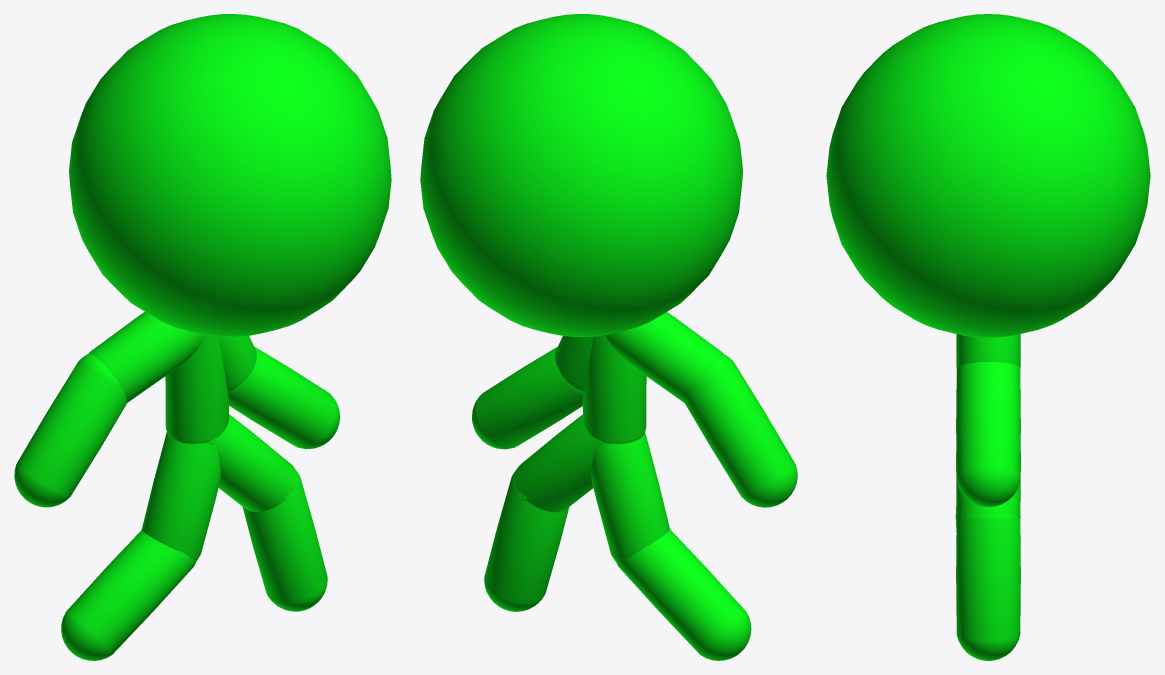
File: StickMan_Walk.obj
The picture shows the model from 3 angles, left to right: view 1: azimuth 30°, elevation 25°; view 2: azimuth 150°, elevation 25°; view 3: azimuth 270°, elevation 25°; orthographic projection.
Parts seen in each view (by area): view 1: 球.045, 球.053, 球.051, 球.052, 球.050, 球.001, 球.047, 球.048, 球.049, 球.002; view 2: 球.045, 球.053, 球.051, 球.050, 球.052, 球.001, 球.047, 球.048, 球.049, 球.002; view 3: 球.045, 球.052, 球.001, 球.002, 球.049.
Boxes of the visible parts, x1,y1,x2,y2 form: 球.045: [69, 14, 391, 336]; 球.053: [14, 353, 127, 507]; 球.051: [61, 530, 196, 660]; 球.052: [242, 469, 327, 611]; 球.050: [141, 432, 220, 560]; 球.001: [228, 346, 339, 449]; 球.047: [165, 335, 229, 443]; 球.048: [89, 312, 206, 402]; 球.049: [205, 414, 297, 511]; 球.002: [218, 335, 256, 391]; 球.045: [420, 14, 742, 336]; 球.053: [684, 353, 797, 507]; 球.051: [616, 529, 751, 660]; 球.050: [591, 432, 669, 562]; 球.052: [484, 469, 569, 611]; 球.001: [472, 347, 583, 449]; 球.047: [582, 335, 646, 444]; 球.048: [605, 312, 723, 402]; 球.049: [514, 414, 606, 512]; 球.002: [555, 336, 593, 391]; 球.045: [826, 14, 1150, 337]; 球.052: [956, 513, 1020, 660]; 球.001: [956, 362, 1020, 507]; 球.002: [956, 334, 1020, 368]; 球.049: [956, 456, 1020, 519].
Size of the model in its own units: 12.55 by 20.32 by 10.
